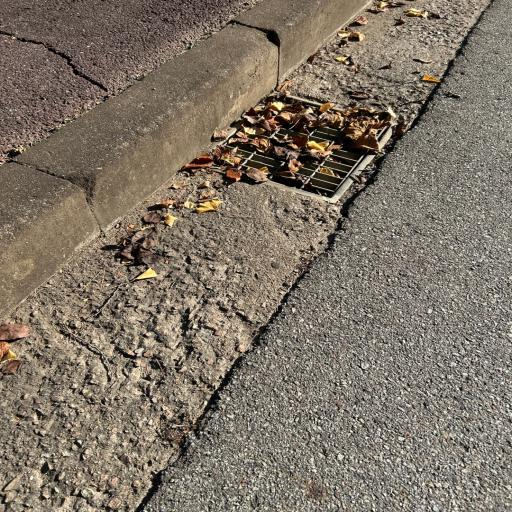debris: (230, 100, 379, 155), (281, 133, 340, 176), (346, 115, 391, 154), (196, 146, 246, 177), (246, 160, 268, 182), (317, 159, 337, 180), (297, 95, 307, 102), (276, 184, 288, 188), (283, 92, 290, 96)
drain: (193, 93, 392, 198)
